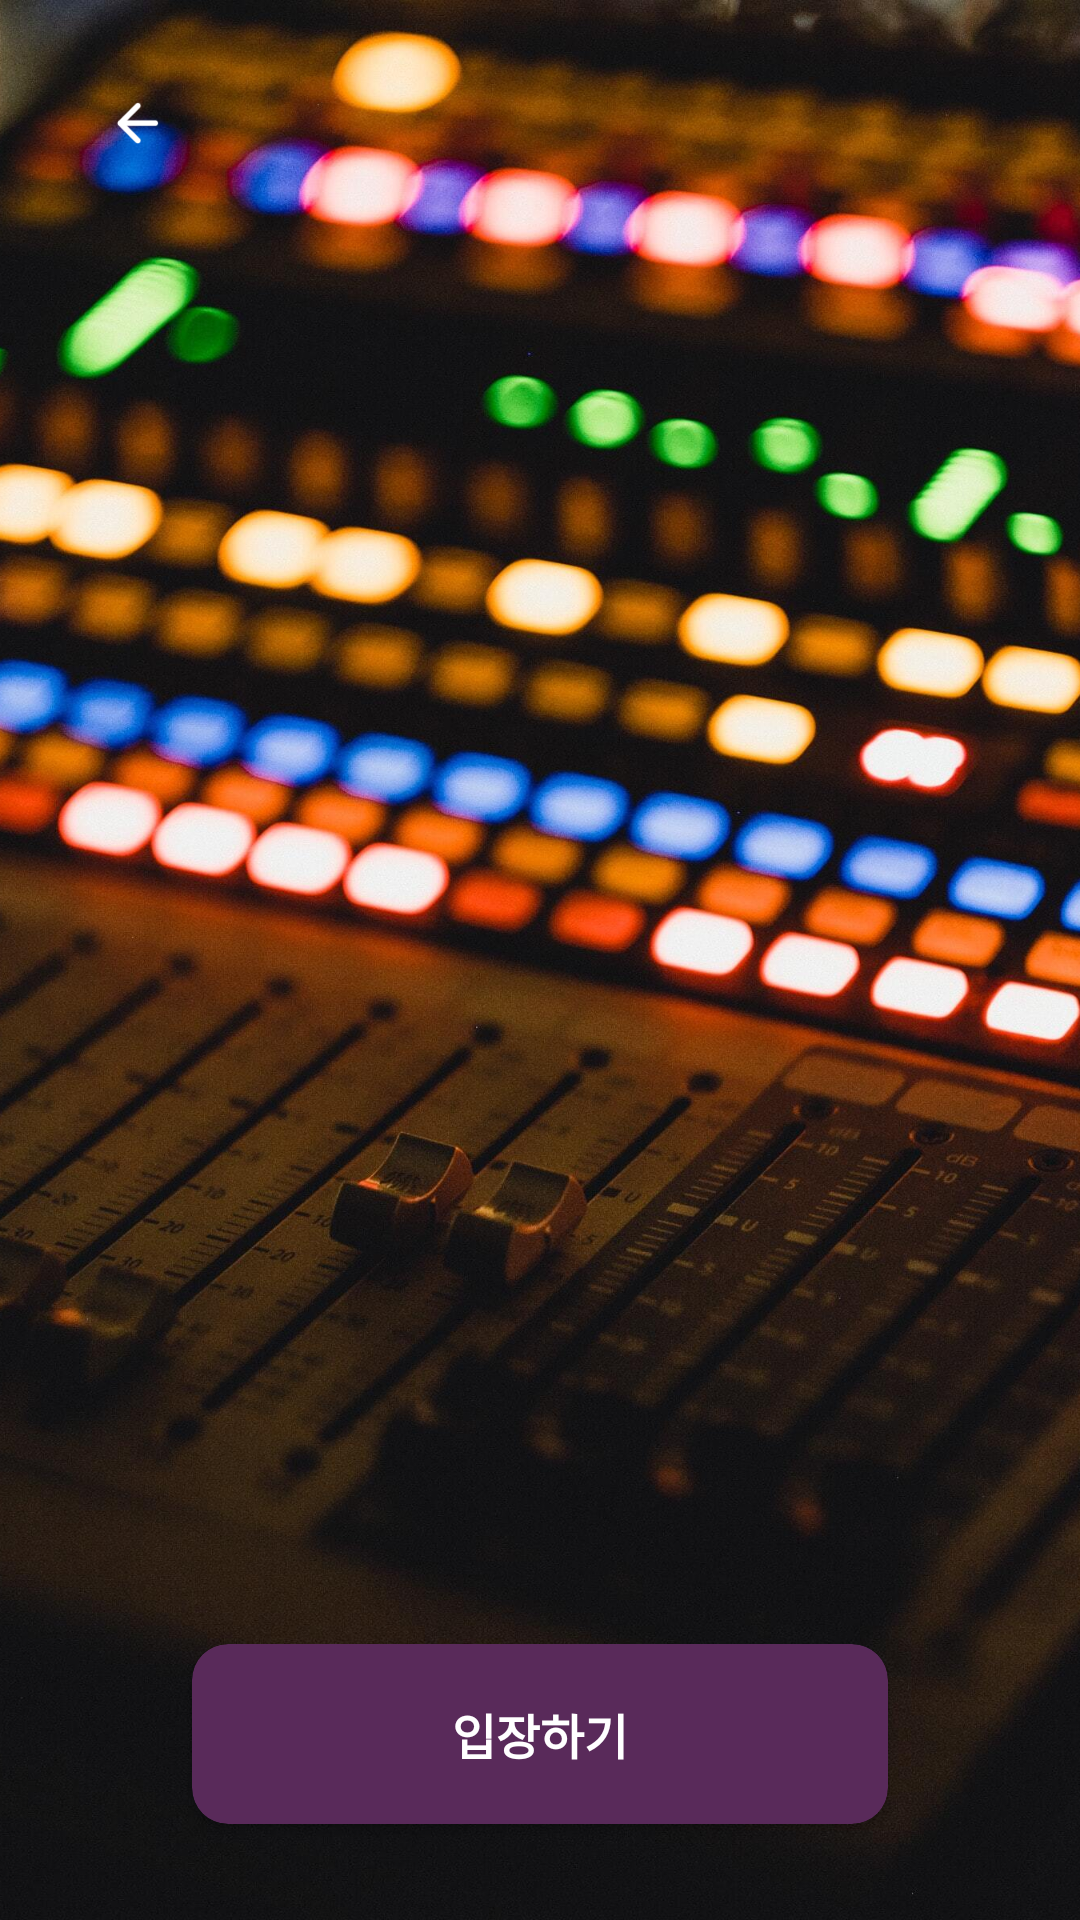

Icons on this 1080x1920 Android screen, each with the point to tap as (x,y):
arrow: (138,123)
